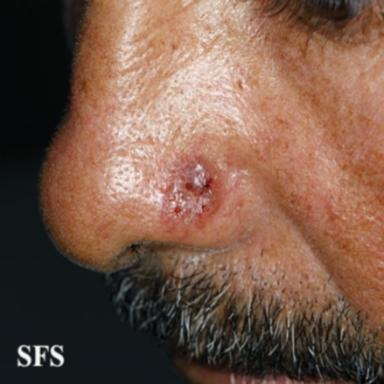basal-cell-carcinoma: (157, 157, 227, 230)
